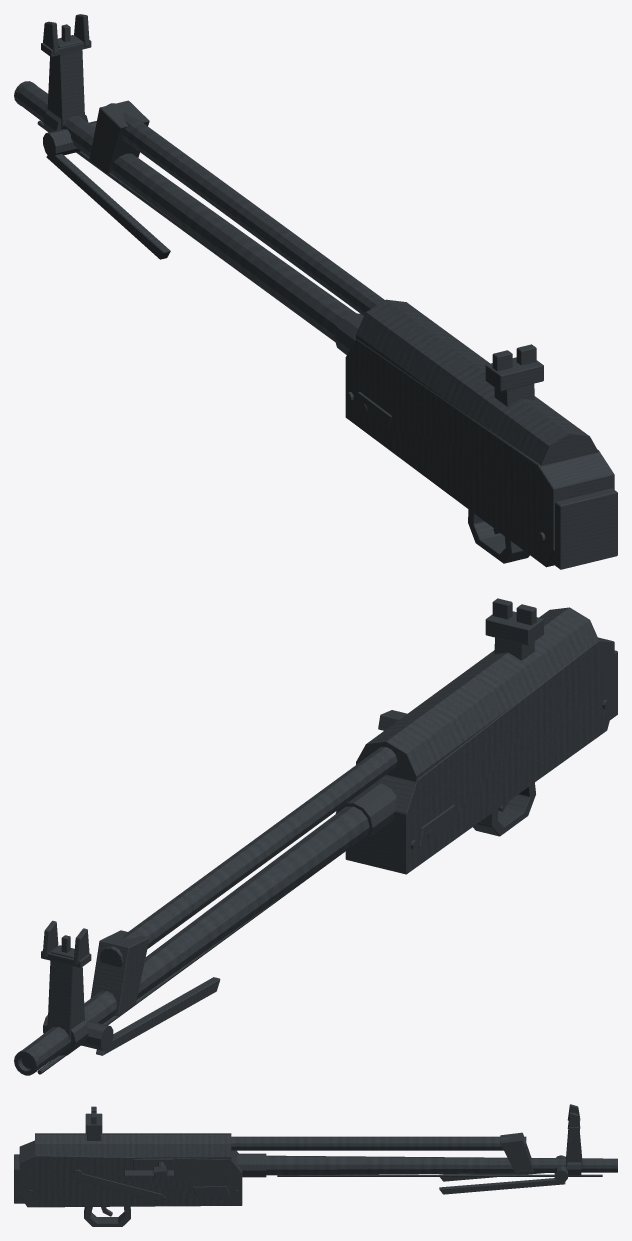
The model's file is weapon_rpk74m.glb.
3 renders of one model, top to bottom at view 1: azimuth 30°, elevation 25°; view 2: azimuth 150°, elevation 25°; view 3: azimuth 270°, elevation 25°, orthographic. The views are drawn at different scales.
Parts seen in each view (by area): view 1: body_LOD0; view 2: body_LOD0; view 3: body_LOD0, action_LOD0.
Boxes of the visible parts, x1,y1,x2,y2 form: body_LOD0: [14, 14, 617, 569]; body_LOD0: [14, 598, 617, 1075]; body_LOD0: [14, 1104, 617, 1226]; action_LOD0: [133, 1159, 173, 1177].
Size of what is drawn, in the model's own units: 0.1429 by 0.2907 by 1.38.
1 material, 1 textured.
